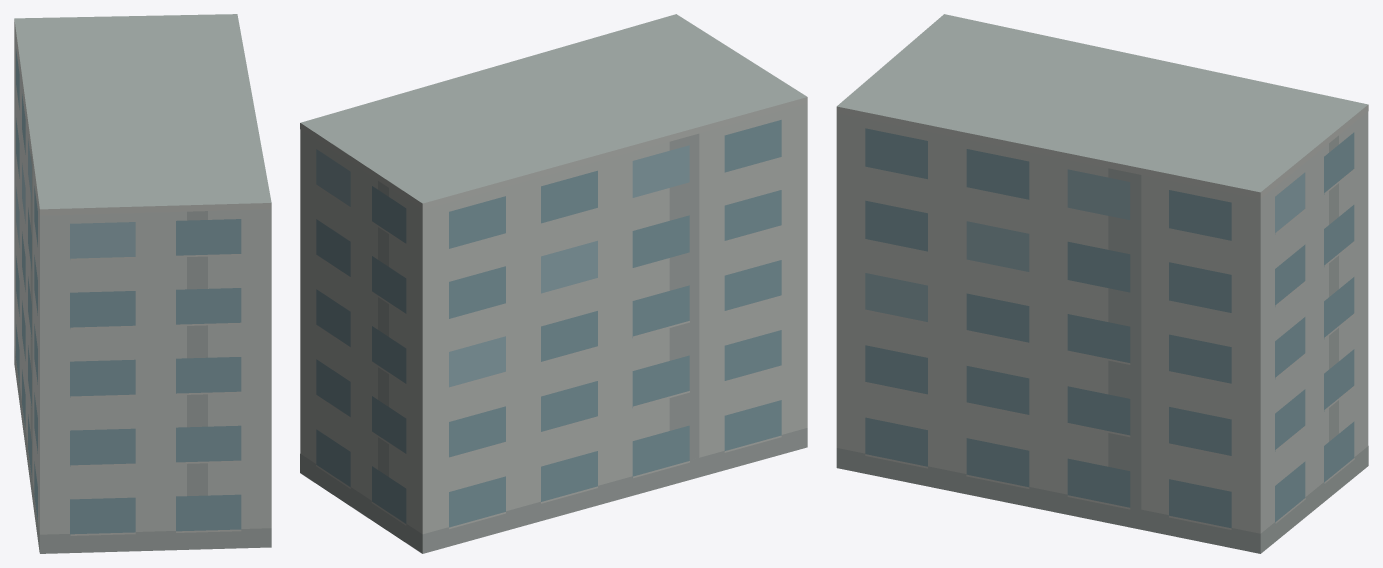
File: survey-upis-32893932.glb
3 renders of one model, left to right at view 1: azimuth 30°, elevation 25°; view 2: azimuth 150°, elevation 25°; view 3: azimuth 270°, elevation 25°, orthographic. The views are drawn at different scales.
Visible parts, largest first — view 1: survey-upis-32893932.tmp; view 2: survey-upis-32893932.tmp; view 3: survey-upis-32893932.tmp.
Part boxes in pixels (box(x1,y1,x2,y2)): survey-upis-32893932.tmp: box(14, 14, 271, 553); survey-upis-32893932.tmp: box(300, 14, 807, 553); survey-upis-32893932.tmp: box(836, 14, 1368, 553).
Bounding box in the file's own units: 13.87 × 13.1 × 17.47.
